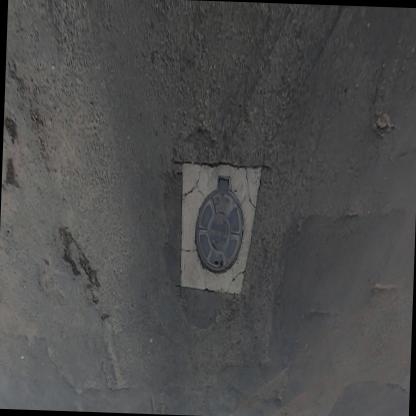manholes: (188, 159, 248, 287)
